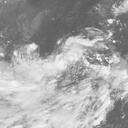cyclone: (30, 49, 102, 109)
